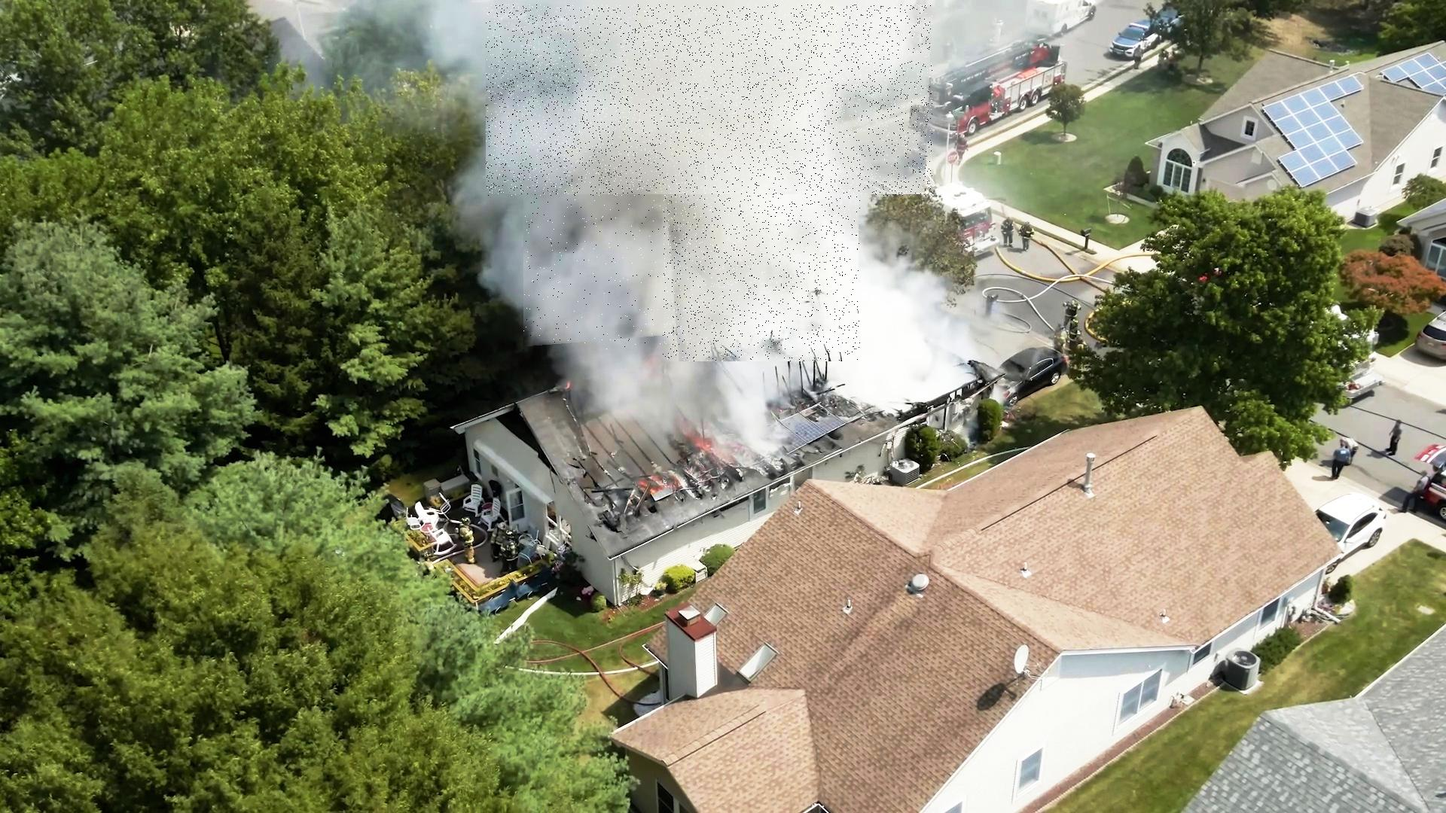smoke: (486, 5, 933, 196), (524, 114, 707, 351), (663, 143, 861, 362)
